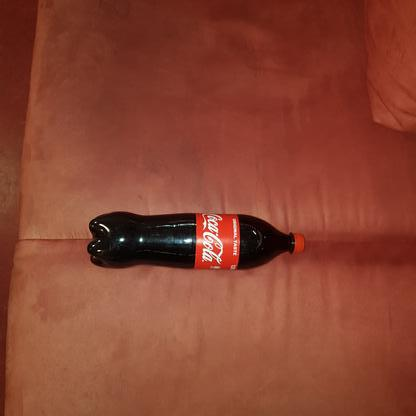coca-cola: (83, 210, 311, 274)
